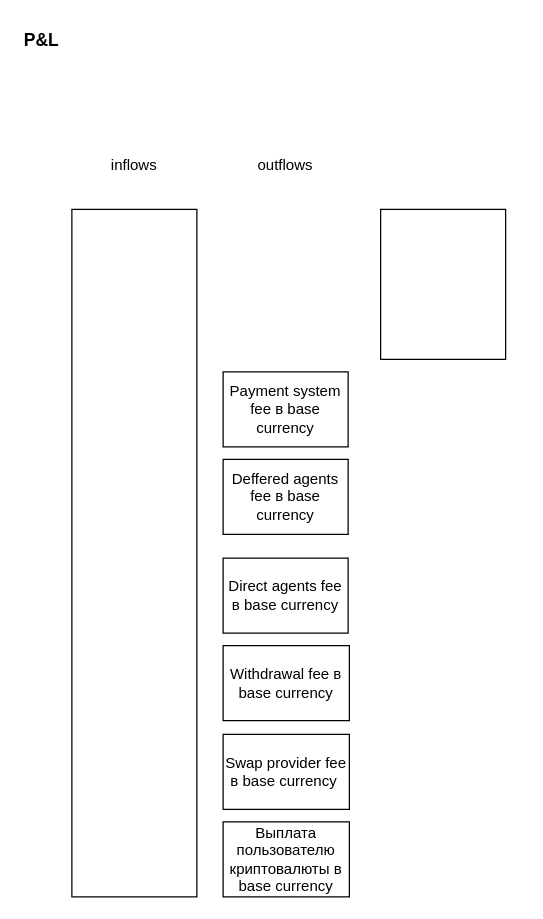
Some shapes in this 543 by 919 pixel diagram are drawn without their labels. Here are the shapes that lost their labels. From the top down, the box of each, then its label:
(379, 208, 506, 359): Profit в base currency
(71, 208, 197, 897): Внесенная пользователем сумма фиата в base currency
